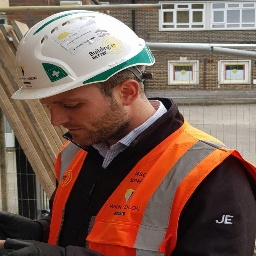helmet: (10, 8, 170, 102)
person: (10, 12, 251, 255)
vest: (50, 125, 256, 256)
